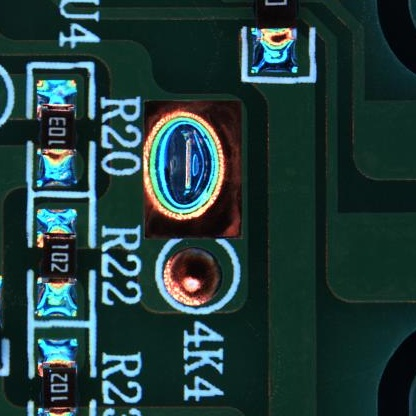spot: (142, 113, 220, 218), (163, 247, 221, 305)
